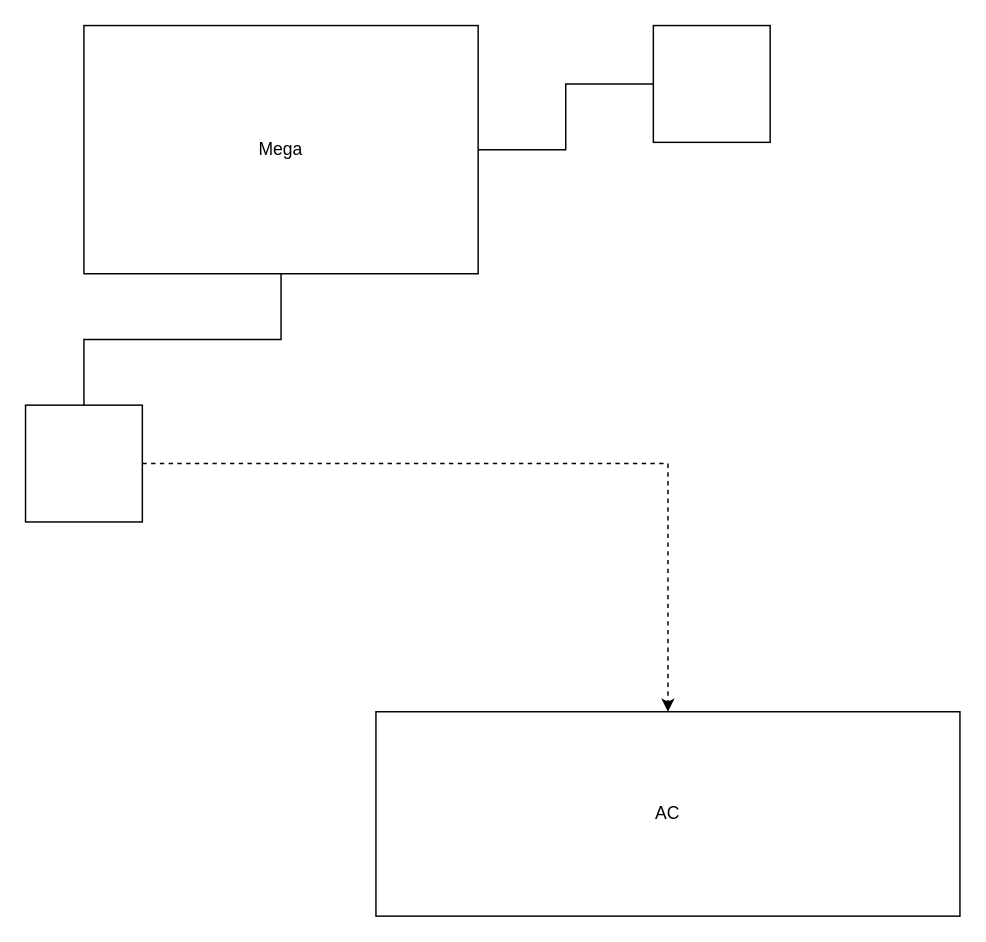
This 986x942 diagram has some shape labels left out. Each missing label, with the centre of its shape:
"IR" belongs at pixel 83 463.
"TSOP" belongs at pixel 711 83.
